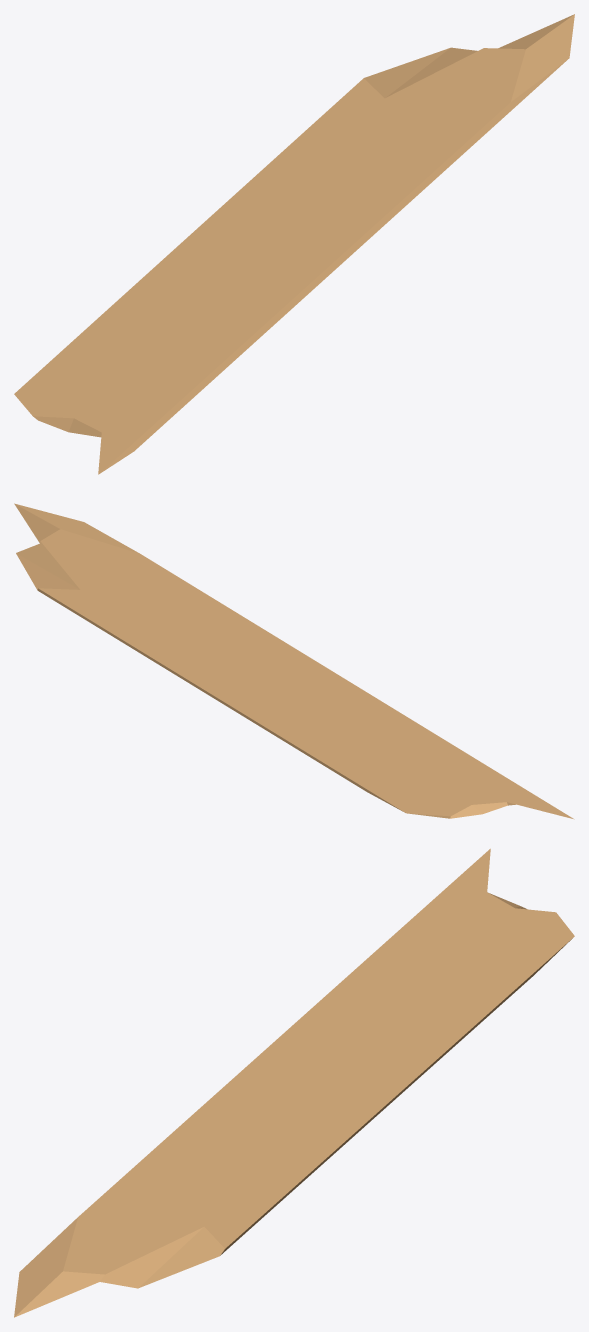
Rendered from prop_1.fbx.
3 views of the same model, one above another, from view 1: azimuth 90°, elevation 25°; view 2: azimuth 150°, elevation 25°; view 3: azimuth 270°, elevation 25° (orthographic). The views are drawn at different scales.
Parts seen in each view (by area): view 1: polySurface10; view 2: polySurface10; view 3: polySurface10.
Part boxes in pixels (<box>): polySurface10: <box>14,14,574,474</box>; polySurface10: <box>14,503,574,819</box>; polySurface10: <box>14,848,574,1317</box>.
Bounding box in the file's own units: 1001 × 11.27 × 510.
